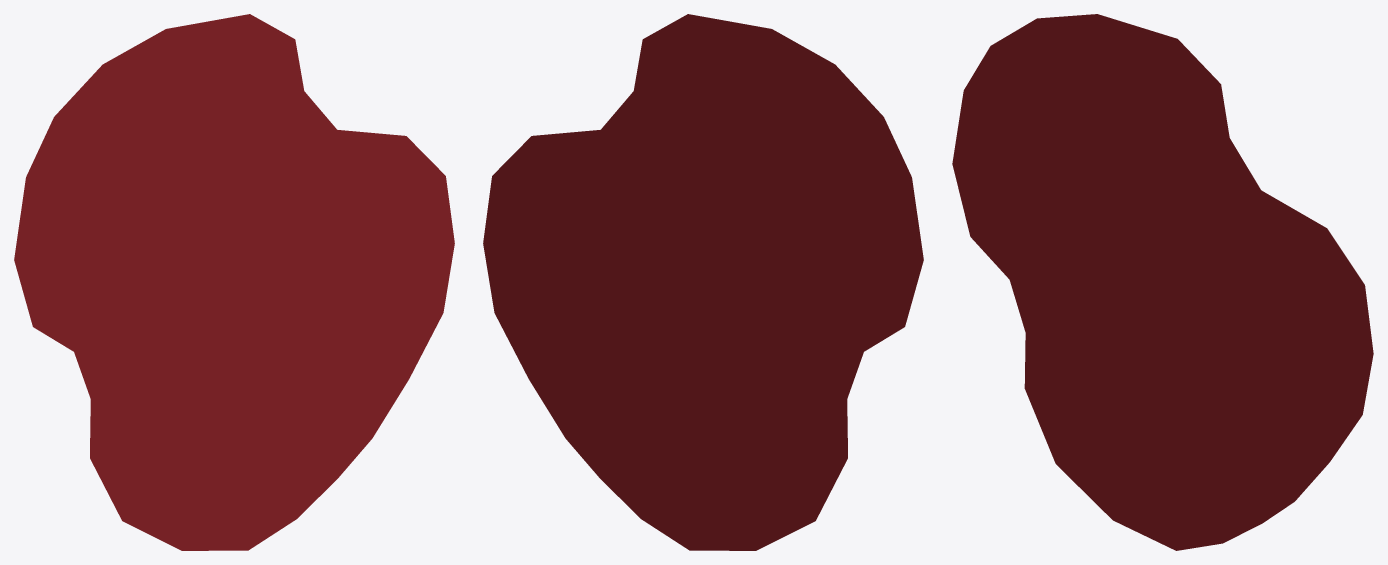
File: Blood 01.FBX
The picture shows the model from 3 angles, left to right: view 1: azimuth 30°, elevation 25°; view 2: azimuth 150°, elevation 25°; view 3: azimuth 330°, elevation 25°; orthographic projection. The views are drawn at different scales.
Parts seen in each view (by area): view 1: Blood 01; view 2: Blood 01; view 3: Blood 01.
Boxes of the visible parts, x1=… form: Blood 01: x1=14, y1=14, x2=454, y2=550; Blood 01: x1=483, y1=14, x2=923, y2=550; Blood 01: x1=952, y1=14, x2=1373, y2=550.
Size of the model in its own units: 69.79 by 81.96 by 1.34e-05.
